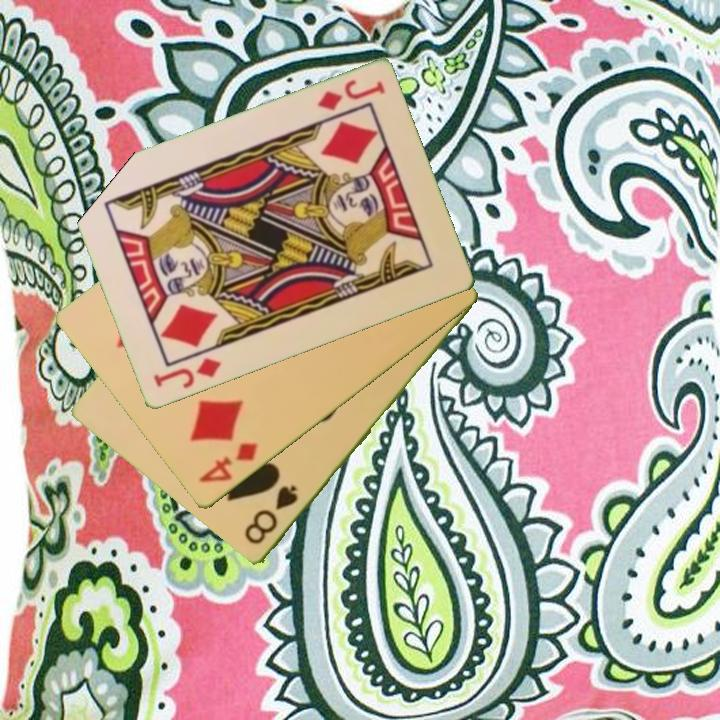4d: (194, 439, 261, 487)
8s: (241, 482, 301, 548)
Jd: (313, 76, 388, 115), (149, 354, 224, 392)
